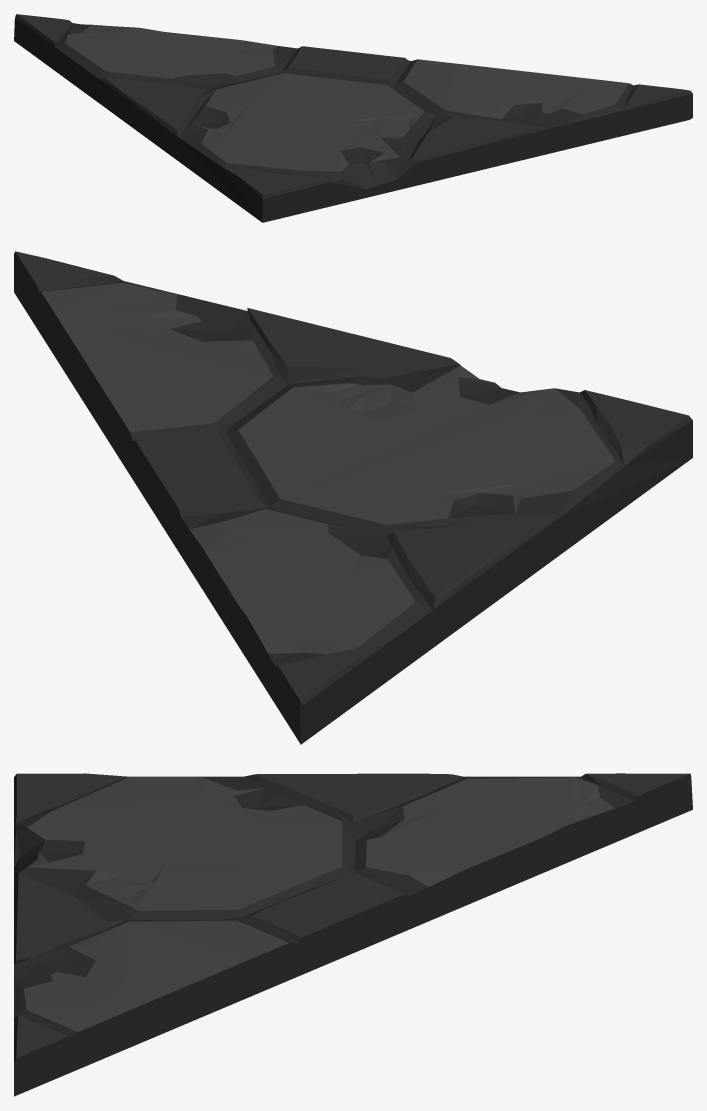
Rendered from SM_Bld_45_Floor_Tile_04.fbx.
3 renders of one model, top to bottom at view 1: azimuth 30°, elevation 25°; view 2: azimuth 150°, elevation 25°; view 3: azimuth 270°, elevation 25°, orthographic. The views are drawn at different scales.
Visible parts, largest first — view 1: SM_Bld_45_Floor_Tile_04; view 2: SM_Bld_45_Floor_Tile_04; view 3: SM_Bld_45_Floor_Tile_04.
Part boxes in pixels (x1,y1,x2,y2): SM_Bld_45_Floor_Tile_04: (14, 14, 692, 222); SM_Bld_45_Floor_Tile_04: (14, 251, 692, 744); SM_Bld_45_Floor_Tile_04: (14, 773, 692, 1096).
Size of the model in its own units: 250 by 15.9 by 250.
Materials: 1 (1 with a texture image).
